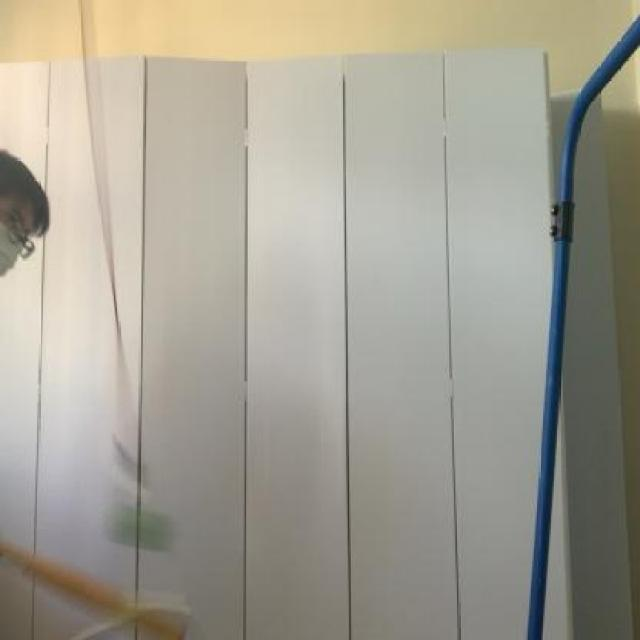baseball: (93, 488, 189, 557)
